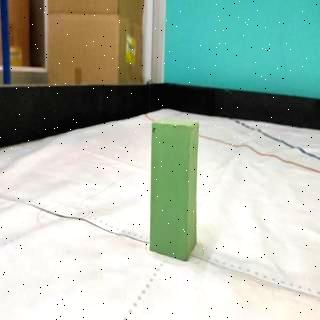greenbox: (150, 117, 202, 262)
